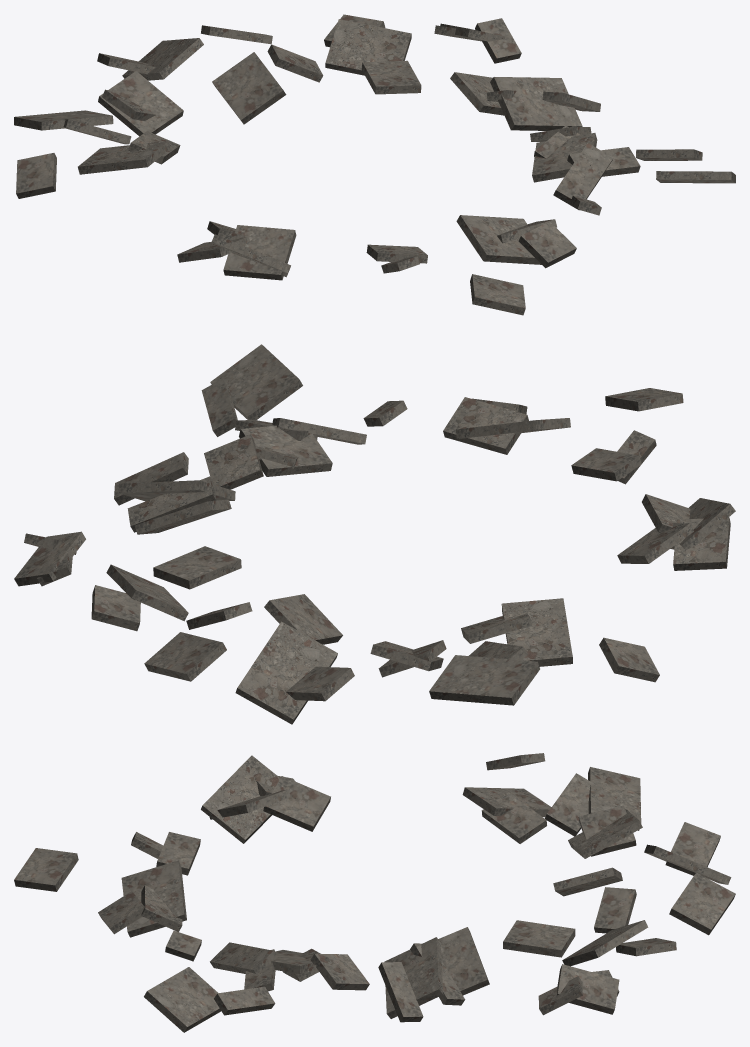
The model's file is S1U_Crater_4m.fbx.
The picture shows the model from 3 angles, top to bottom: view 1: azimuth 30°, elevation 25°; view 2: azimuth 150°, elevation 25°; view 3: azimuth 270°, elevation 25°; orthographic projection. The views are drawn at different scales.
Visible parts, largest first — view 1: S1U_Crater_4m; view 2: S1U_Crater_4m; view 3: S1U_Crater_4m.
Part boxes in pixels (left/top/right/bottom): S1U_Crater_4m: left=14, top=14, right=735, bottom=315; S1U_Crater_4m: left=14, top=344, right=735, bottom=724; S1U_Crater_4m: left=14, top=753, right=735, bottom=1032.
Size of the model in its own units: 4.57 by 0.4505 by 5.18.
